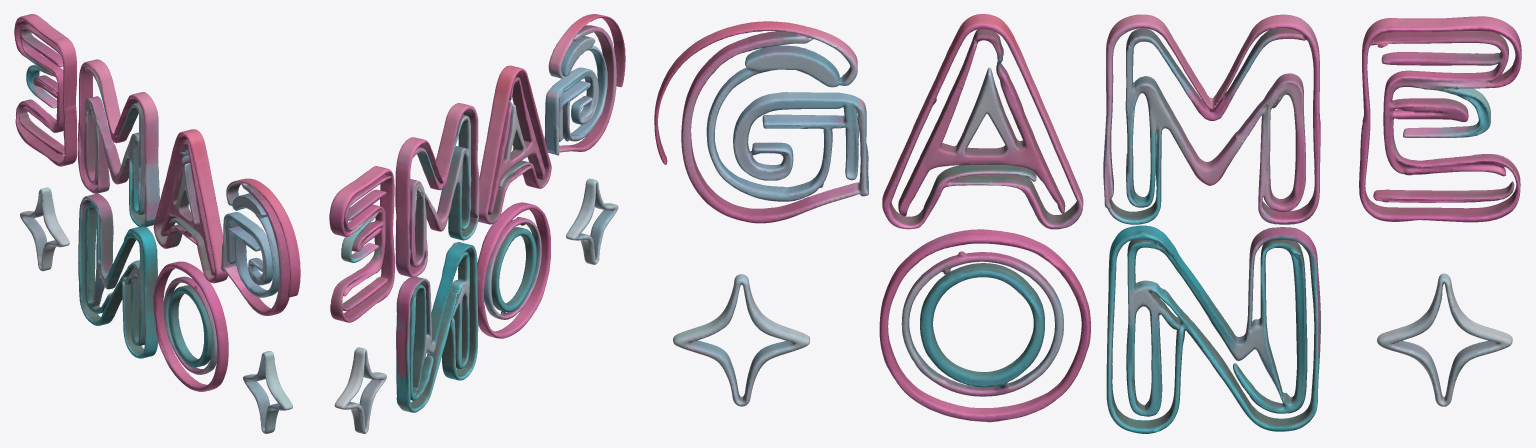
The model's file is neon_game_sign.glb.
3 renders of one model, left to right at view 1: azimuth 30°, elevation 25°; view 2: azimuth 150°, elevation 25°; view 3: azimuth 270°, elevation 25°, orthographic. The views are drawn at different scales.
Parts seen in each view (by area): view 1: tripo_node_efce8136-339b-40c2-aa1e-9c9ec6880d7e; view 2: tripo_node_efce8136-339b-40c2-aa1e-9c9ec6880d7e; view 3: tripo_node_efce8136-339b-40c2-aa1e-9c9ec6880d7e.
Boxes of the visible parts, x1,y1,x2,y2 form: tripo_node_efce8136-339b-40c2-aa1e-9c9ec6880d7e: [14, 14, 300, 433]; tripo_node_efce8136-339b-40c2-aa1e-9c9ec6880d7e: [329, 14, 625, 433]; tripo_node_efce8136-339b-40c2-aa1e-9c9ec6880d7e: [654, 14, 1521, 433].
Size of the model in its own units: 0.035 by 0.5244 by 1.
Materials: 1 (1 with a texture image).
